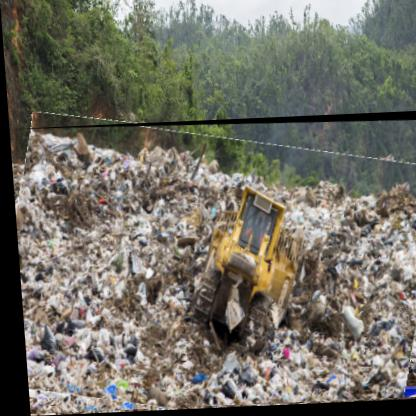Garbage: (8, 115, 416, 416)
